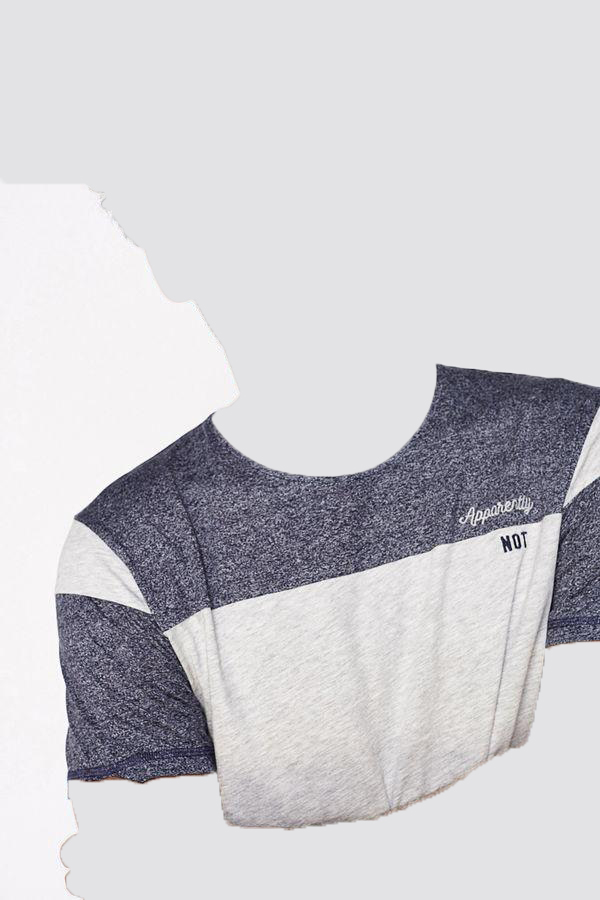teeshirt: (34, 364, 600, 834)
